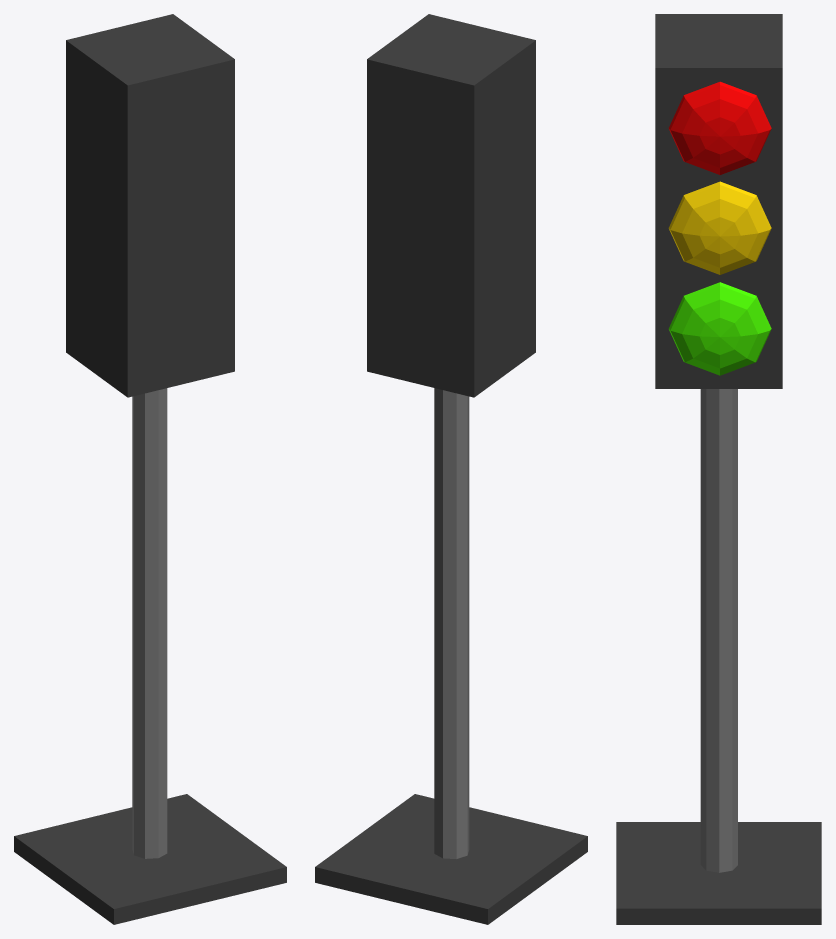
File: traffic_Lights.fbx
The picture shows the model from 3 angles, left to right: view 1: azimuth 30°, elevation 25°; view 2: azimuth 150°, elevation 25°; view 3: azimuth 270°, elevation 25°; orthographic projection. The views are drawn at different scales.
Visible parts, largest first — view 1: traffic_Lights; view 2: traffic_Lights; view 3: traffic_Lights.
Boxes of the visible parts, x1=… form: traffic_Lights: x1=14, y1=14, x2=286, y2=924; traffic_Lights: x1=315, y1=14, x2=587, y2=924; traffic_Lights: x1=616, y1=14, x2=821, y2=924.
Size of the model in its own units: 60.75 by 274 by 60.75.
